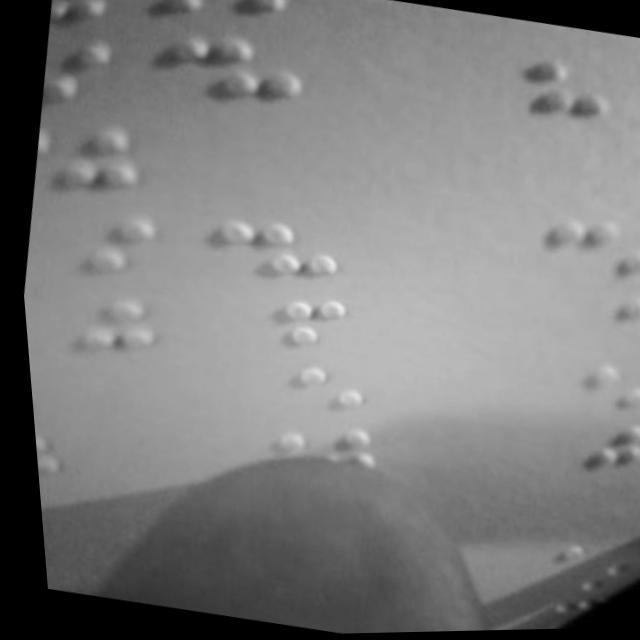braiile: (154, 18, 315, 119), (204, 198, 350, 291), (24, 198, 170, 291), (235, 344, 370, 426), (226, 279, 358, 361), (532, 205, 640, 289), (534, 347, 640, 425), (534, 410, 640, 483), (546, 282, 640, 354), (156, 0, 305, 36)
